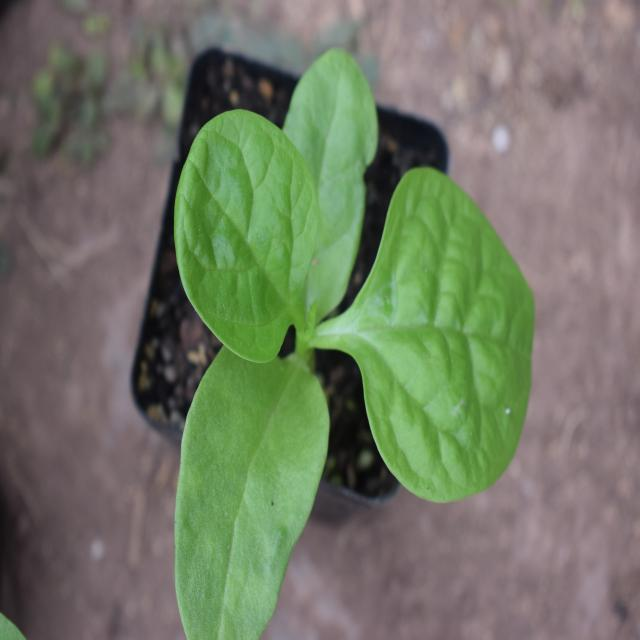Ceylon spinach: (156, 71, 533, 626)
